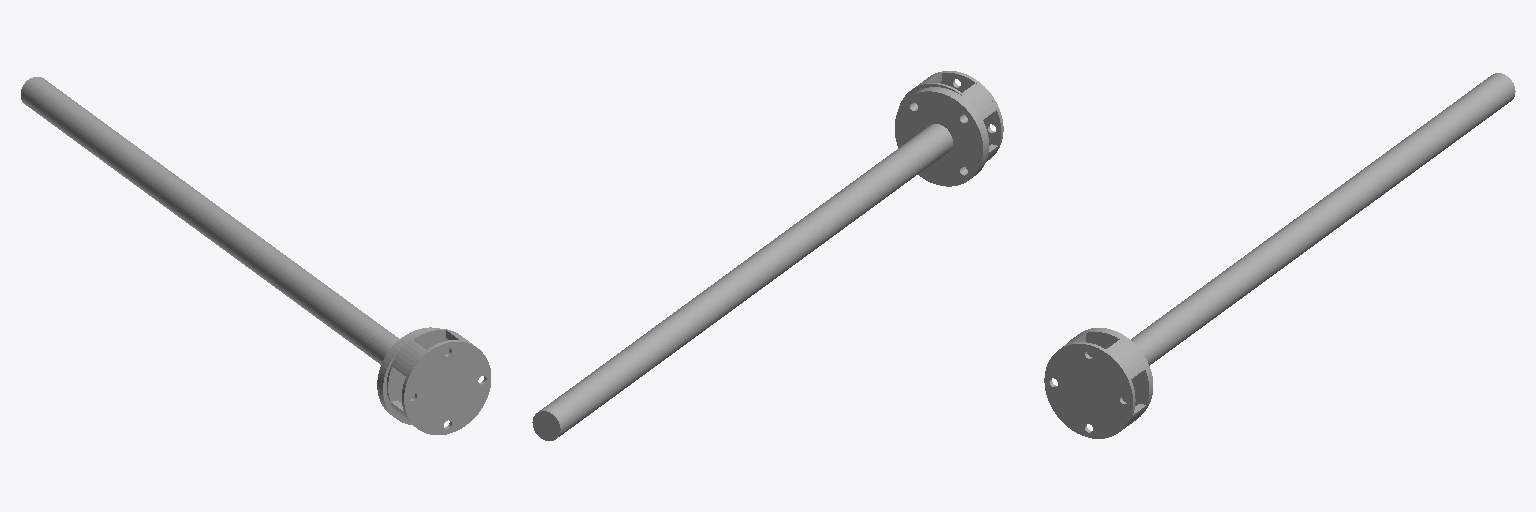
The robot description file, URDF, robot "ur10":
<?xml version="1.0" ?>
<!-- =================================================================================== -->
<!-- |    This document was autogenerated by xacro from ur10_robot_stick.urdf.xacro    | -->
<!-- |    EDITING THIS FILE BY HAND IS NOT RECOMMENDED                                 | -->
<!-- =================================================================================== -->
<robot name="ur10" xmlns:xacro="http://wiki.ros.org/xacro">
  <gazebo>
    <plugin filename="libgazebo_ros_control.so" name="ros_control">
      <!--robotNamespace>/</robotNamespace-->
      <!--robotSimType>gazebo_ros_control/DefaultRobotHWSim</robotSimType-->
    </plugin>
    <!--
    <plugin name="gazebo_ros_power_monitor_controller" filename="libgazebo_ros_power_monitor.so">
      <alwaysOn>true</alwaysOn>
      <updateRate>1.0</updateRate>
      <timeout>5</timeout>
      <powerStateTopic>power_state</powerStateTopic>
      <powerStateRate>10.0</powerStateRate>
      <fullChargeCapacity>87.78</fullChargeCapacity>     
      <dischargeRate>-474</dischargeRate>
      <chargeRate>525</chargeRate>
      <dischargeVoltage>15.52</dischargeVoltage>
      <chargeVoltage>16.41</chargeVoltage>
    </plugin>
-->
  </gazebo>
  <!--
  Author: [author]
  Contributers: [author], [author], [author]
-->
  <!-- measured from model -->
  <link name="base_link">
    <visual>
      <geometry>
        <mesh filename="package://ur_description/meshes/ur10/visual/base.dae"/>
      </geometry>
      <material name="LightGrey">
        <color rgba="0.7 0.7 0.7 1.0"/>
      </material>
    </visual>
    <collision>
      <geometry>
        <mesh filename="package://ur_description/meshes/ur10/collision/base.stl"/>
      </geometry>
    </collision>
    <inertial>
      <mass value="4.0"/>
      <origin rpy="0 0 0" xyz="0.0 0.0 0.0"/>
      <inertia ixx="0.0061063308908" ixy="0.0" ixz="0.0" iyy="0.0061063308908" iyz="0.0" izz="0.01125"/>
    </inertial>
  </link>
  <joint name="shoulder_pan_joint" type="revolute">
    <parent link="base_link"/>
    <child link="shoulder_link"/>
    <origin rpy="0.0 0.0 0.0" xyz="0.0 0.0 0.1273"/>
    <axis xyz="0 0 1"/>
    <limit effort="330.0" lower="-6.28318530718" upper="6.28318530718" velocity="2.16"/>
    <dynamics damping="0.0" friction="0.0"/>
  </joint>
  <link name="shoulder_link">
    <visual>
      <geometry>
        <mesh filename="package://ur_description/meshes/ur10/visual/shoulder.dae"/>
      </geometry>
      <material name="LightGrey">
        <color rgba="0.7 0.7 0.7 1.0"/>
      </material>
    </visual>
    <collision>
      <geometry>
        <mesh filename="package://ur_description/meshes/ur10/collision/shoulder.stl"/>
      </geometry>
    </collision>
    <inertial>
      <mass value="7.778"/>
      <origin rpy="0 0 0" xyz="0.0 0.0 0.0"/>
      <inertia ixx="0.0314743125769" ixy="0.0" ixz="0.0" iyy="0.0314743125769" iyz="0.0" izz="0.021875625"/>
    </inertial>
  </link>
  <joint name="shoulder_lift_joint" type="revolute">
    <parent link="shoulder_link"/>
    <child link="upper_arm_link"/>
    <origin rpy="0.0 1.57079632679 0.0" xyz="0.0 0.220941 0.0"/>
    <axis xyz="0 1 0"/>
    <limit effort="330.0" lower="-6.28318530718" upper="6.28318530718" velocity="2.16"/>
    <dynamics damping="0.0" friction="0.0"/>
  </joint>
  <link name="upper_arm_link">
    <visual>
      <geometry>
        <mesh filename="package://ur_description/meshes/ur10/visual/upperarm.dae"/>
      </geometry>
      <material name="LightGrey">
        <color rgba="0.7 0.7 0.7 1.0"/>
      </material>
    </visual>
    <collision>
      <geometry>
        <mesh filename="package://ur_description/meshes/ur10/collision/upperarm.stl"/>
      </geometry>
    </collision>
    <inertial>
      <mass value="12.93"/>
      <origin rpy="0 0 0" xyz="0.0 -0.045 0.306"/>
      <inertia ixx="0.421753803798" ixy="0.0" ixz="0.0" iyy="0.421753803798" iyz="0.0" izz="0.036365625"/>
    </inertial>
  </link>
  <joint name="elbow_joint" type="revolute">
    <parent link="upper_arm_link"/>
    <child link="forearm_link"/>
    <origin rpy="0.0 0.0 0.0" xyz="0.0 -0.1719 0.612"/>
    <axis xyz="0 1 0"/>
    <limit effort="150.0" lower="-3.14159265359" upper="3.14159265359" velocity="3.15"/>
    <dynamics damping="0.0" friction="0.0"/>
  </joint>
  <link name="forearm_link">
    <visual>
      <geometry>
        <mesh filename="package://ur_description/meshes/ur10/visual/forearm.dae"/>
      </geometry>
      <material name="LightGrey">
        <color rgba="0.7 0.7 0.7 1.0"/>
      </material>
    </visual>
    <collision>
      <geometry>
        <mesh filename="package://ur_description/meshes/ur10/collision/forearm.stl"/>
      </geometry>
    </collision>
    <inertial>
      <mass value="3.87"/>
      <origin rpy="0 0 0" xyz="0.0 0.0 0.28615"/>
      <inertia ixx="0.111069694097" ixy="0.0" ixz="0.0" iyy="0.111069694097" iyz="0.0" izz="0.010884375"/>
    </inertial>
  </link>
  <joint name="wrist_1_joint" type="revolute">
    <parent link="forearm_link"/>
    <child link="wrist_1_link"/>
    <origin rpy="0.0 1.57079632679 0.0" xyz="0.0 0.0 0.5723"/>
    <axis xyz="0 1 0"/>
    <limit effort="54.0" lower="-6.28318530718" upper="6.28318530718" velocity="3.2"/>
    <dynamics damping="0.0" friction="0.0"/>
  </joint>
  <link name="wrist_1_link">
    <visual>
      <geometry>
        <mesh filename="package://ur_description/meshes/ur10/visual/wrist1.dae"/>
      </geometry>
      <material name="LightGrey">
        <color rgba="0.7 0.7 0.7 1.0"/>
      </material>
    </visual>
    <collision>
      <geometry>
        <mesh filename="package://ur_description/meshes/ur10/collision/wrist1.stl"/>
      </geometry>
    </collision>
    <inertial>
      <mass value="1.96"/>
      <origin rpy="0 0 0" xyz="0.0 0.1149 0.0"/>
      <inertia ixx="0.0051082479567" ixy="0.0" ixz="0.0" iyy="0.0051082479567" iyz="0.0" izz="0.0055125"/>
    </inertial>
  </link>
  <joint name="wrist_2_joint" type="revolute">
    <parent link="wrist_1_link"/>
    <child link="wrist_2_link"/>
    <origin rpy="0.0 0.0 0.0" xyz="0.0 0.1149 0.0"/>
    <axis xyz="0 0 1"/>
    <limit effort="54.0" lower="-6.28318530718" upper="6.28318530718" velocity="3.2"/>
    <dynamics damping="0.0" friction="0.0"/>
  </joint>
  <link name="wrist_2_link">
    <visual>
      <geometry>
        <mesh filename="package://ur_description/meshes/ur10/visual/wrist2.dae"/>
      </geometry>
      <material name="LightGrey">
        <color rgba="0.7 0.7 0.7 1.0"/>
      </material>
    </visual>
    <collision>
      <geometry>
        <mesh filename="package://ur_description/meshes/ur10/collision/wrist2.stl"/>
      </geometry>
    </collision>
    <inertial>
      <mass value="1.96"/>
      <origin rpy="0 0 0" xyz="0.0 0.0 0.1157"/>
      <inertia ixx="0.0051082479567" ixy="0.0" ixz="0.0" iyy="0.0051082479567" iyz="0.0" izz="0.0055125"/>
    </inertial>
  </link>
  <joint name="wrist_3_joint" type="revolute">
    <parent link="wrist_2_link"/>
    <child link="wrist_3_link"/>
    <origin rpy="0.0 0.0 0.0" xyz="0.0 0.0 0.1157"/>
    <axis xyz="0 1 0"/>
    <limit effort="54.0" lower="-6.28318530718" upper="6.28318530718" velocity="3.2"/>
    <dynamics damping="0.0" friction="0.0"/>
  </joint>
  <link name="wrist_3_link">
    <visual>
      <geometry>
        <mesh filename="package://ur_description/meshes/ur10/visual/wrist3.dae"/>
      </geometry>
      <material name="LightGrey">
        <color rgba="0.7 0.7 0.7 1.0"/>
      </material>
    </visual>
    <collision>
      <geometry>
        <mesh filename="package://ur_description/meshes/ur10/collision/wrist3.stl"/>
      </geometry>
    </collision>
    <inertial>
      <mass value="0.202"/>
      <origin rpy="1.57079632679 0 0" xyz="0.0 0.07695 0.0"/>
      <inertia ixx="0.000117921661165" ixy="0.0" ixz="0.0" iyy="0.000117921661165" iyz="0.0" izz="0.000204525"/>
    </inertial>
  </link>
  <joint name="ee_fixed_joint" type="fixed">
    <parent link="wrist_3_link"/>
    <child link="ee_link"/>
    <origin rpy="0.0 0.0 1.57079632679" xyz="0.0 0.0922 0.0"/>
  </joint>
  <link name="ee_link">
    <collision>
      <geometry>
        <box size="0.01 0.01 0.01"/>
      </geometry>
      <origin rpy="0 0 0" xyz="-0.01 0 0"/>
    </collision>
  </link>
  <transmission name="shoulder_pan_trans">
    <type>transmission_interface/SimpleTransmission</type>
    <joint name="shoulder_pan_joint">
      <hardwareInterface>hardware_interface/PositionJointInterface</hardwareInterface>
    </joint>
    <actuator name="shoulder_pan_motor">
      <mechanicalReduction>1</mechanicalReduction>
    </actuator>
  </transmission>
  <transmission name="shoulder_lift_trans">
    <type>transmission_interface/SimpleTransmission</type>
    <joint name="shoulder_lift_joint">
      <hardwareInterface>hardware_interface/PositionJointInterface</hardwareInterface>
    </joint>
    <actuator name="shoulder_lift_motor">
      <mechanicalReduction>1</mechanicalReduction>
    </actuator>
  </transmission>
  <transmission name="elbow_trans">
    <type>transmission_interface/SimpleTransmission</type>
    <joint name="elbow_joint">
      <hardwareInterface>hardware_interface/PositionJointInterface</hardwareInterface>
    </joint>
    <actuator name="elbow_motor">
      <mechanicalReduction>1</mechanicalReduction>
    </actuator>
  </transmission>
  <transmission name="wrist_1_trans">
    <type>transmission_interface/SimpleTransmission</type>
    <joint name="wrist_1_joint">
      <hardwareInterface>hardware_interface/PositionJointInterface</hardwareInterface>
    </joint>
    <actuator name="wrist_1_motor">
      <mechanicalReduction>1</mechanicalReduction>
    </actuator>
  </transmission>
  <transmission name="wrist_2_trans">
    <type>transmission_interface/SimpleTransmission</type>
    <joint name="wrist_2_joint">
      <hardwareInterface>hardware_interface/PositionJointInterface</hardwareInterface>
    </joint>
    <actuator name="wrist_2_motor">
      <mechanicalReduction>1</mechanicalReduction>
    </actuator>
  </transmission>
  <transmission name="wrist_3_trans">
    <type>transmission_interface/SimpleTransmission</type>
    <joint name="wrist_3_joint">
      <hardwareInterface>hardware_interface/PositionJointInterface</hardwareInterface>
    </joint>
    <actuator name="wrist_3_motor">
      <mechanicalReduction>1</mechanicalReduction>
    </actuator>
  </transmission>
  <gazebo reference="shoulder_link">
    <selfCollide>true</selfCollide>
  </gazebo>
  <gazebo reference="upper_arm_link">
    <selfCollide>true</selfCollide>
  </gazebo>
  <gazebo reference="forearm_link">
    <selfCollide>true</selfCollide>
  </gazebo>
  <gazebo reference="wrist_1_link">
    <selfCollide>true</selfCollide>
  </gazebo>
  <gazebo reference="wrist_3_link">
    <selfCollide>true</selfCollide>
  </gazebo>
  <gazebo reference="wrist_2_link">
    <selfCollide>true</selfCollide>
  </gazebo>
  <gazebo reference="ee_link">
    <selfCollide>true</selfCollide>
  </gazebo>
  <!-- ROS base_link to UR 'Base' Coordinates transform -->
  <link name="base"/>
  <joint name="base_link-base_fixed_joint" type="fixed">
    <!-- NOTE: this rotation is only needed as long as base_link itself is
                 not corrected wrt the real robot (ie: rotated over 180
                 degrees)
      -->
    <origin rpy="0 0 -3.14159265359" xyz="0 0 0"/>
    <parent link="base_link"/>
    <child link="base"/>
  </joint>
  <!-- Frame coincident with all-zeros TCP on UR controller -->
  <link name="tool0"/>
  <joint name="wrist_3_link-tool0_fixed_joint" type="fixed">
    <origin rpy="-1.57079632679 0 0" xyz="0 0.0922 0"/>
    <parent link="wrist_3_link"/>
    <child link="tool0"/>
  </joint>
  <link name="world"/>
  <joint name="world_joint" type="fixed">
    <parent link="world"/>
    <child link="base_link"/>
    <origin rpy="0.0 0.0 0.0" xyz="0.0 0.0 0.0"/>
  </joint>
  <link name="flange">
    <visual>
      <geometry>
        <mesh filename="package://ur_description/meshes/ur10/visual/flange.obj" scale="0.001 0.001 0.001"/>
      </geometry>
      <material name="LightGrey">
        <color rgba="0.7 0.7 0.7 1.0"/>
      </material>
      <origin rpy="0 0 0" xyz="-0.00 -0.025 0"/>
    </visual>
    <collision>
      <geometry>
        <mesh filename="package://ur_description/meshes/ur10/collision/flange.stl" scale="0.001 0.001 0.001"/>
      </geometry>
      <origin rpy="0 0 0" xyz="-0.00 -0.025 0"/>
    </collision>
    <inertial>
      <mass value="0.1"/>
      <origin rpy="1.57079632679 0 0" xyz="0.0 0.0 0.0"/>
      <inertia ixx="0.00010325829203" ixy="0.0" ixz="0.0" iyy="0.00010325829203" iyz="0.0" izz="0.00019845"/>
    </inertial>
  </link>
  <joint name="eff_flange" type="fixed">
    <parent link="tool0"/>
    <child link="flange"/>
    <origin rpy="0.0 0.0 0.0" xyz="0.0 0.0 0.0"/>
  </joint>
    <link name="stick">
    <visual>
      <geometry>
        <mesh filename="package://ur_description/meshes/ur10/visual/stick.obj" scale="0.001 0.001 0.00245"/>
      </geometry>
      <material name="LightGrey">
        <color rgba="0.7 0.7 0.7 1.0"/>
      </material>
      <origin rpy="0 0 0" xyz="-0.00 0.005 0.022"/>
    </visual>
    <collision>
      <geometry>
        <mesh filename="package://ur_description/meshes/ur10/collision/stick.stl" scale="0.001 0.001 0.00245"/>
      </geometry>
      <origin rpy="0 0 0" xyz="0 0.005 0.022"/>
    </collision>
    <inertial>
      <mass value="0.1"/>
      <origin rpy="1.57079632679 0 0" xyz="0.0 0.0 0.0"/>
      <inertia ixx="0.00010325829203" ixy="0.0" ixz="0.0" iyy="0.00010325829203" iyz="0.0" izz="0.00019845"/>
    </inertial>
  </link>
  <joint name="eff_stick" type="fixed">
    <parent link="flange"/>
    <child link="stick"/>
    <origin rpy="0.0 0.0 0.0" xyz="0.0 0.0 0.0"/>
  </joint>
</robot>

--- Facts derived from the render (not from the file) ---
Views: 3 orthographic renders of the robot side by side, from view 1: azimuth 30°, elevation 25°; view 2: azimuth 150°, elevation 25°; view 3: azimuth 330°, elevation 25°.
Model ur10 with 13 links and 12 joints (6 revolute, 6 fixed), rooted at world, posed every joint at zero.
Links seen in each view (by area): view 1: stick, flange; view 2: stick, flange; view 3: stick, flange.
Link boxes in pixels (x1,y1,x2,y2): stick: (21, 77, 439, 424); flange: (387, 329, 490, 434); stick: (532, 87, 988, 440); flange: (898, 71, 1003, 168); stick: (1067, 73, 1515, 410); flange: (1044, 331, 1150, 438).
Size in the robot's own frame: 0.0655 by 0.512 by 0.0645 metres.
Meshes: 9 distinct files referenced, 2 mesh visuals loaded (2 OBJ); not drawn: 7 (reference not matched to a file when rendering).